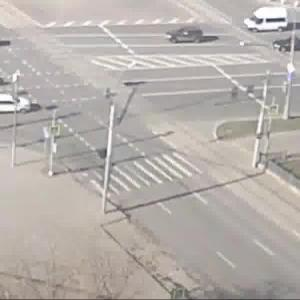car: (240, 10, 291, 31), (168, 24, 208, 49), (2, 95, 35, 116), (273, 40, 300, 55)
